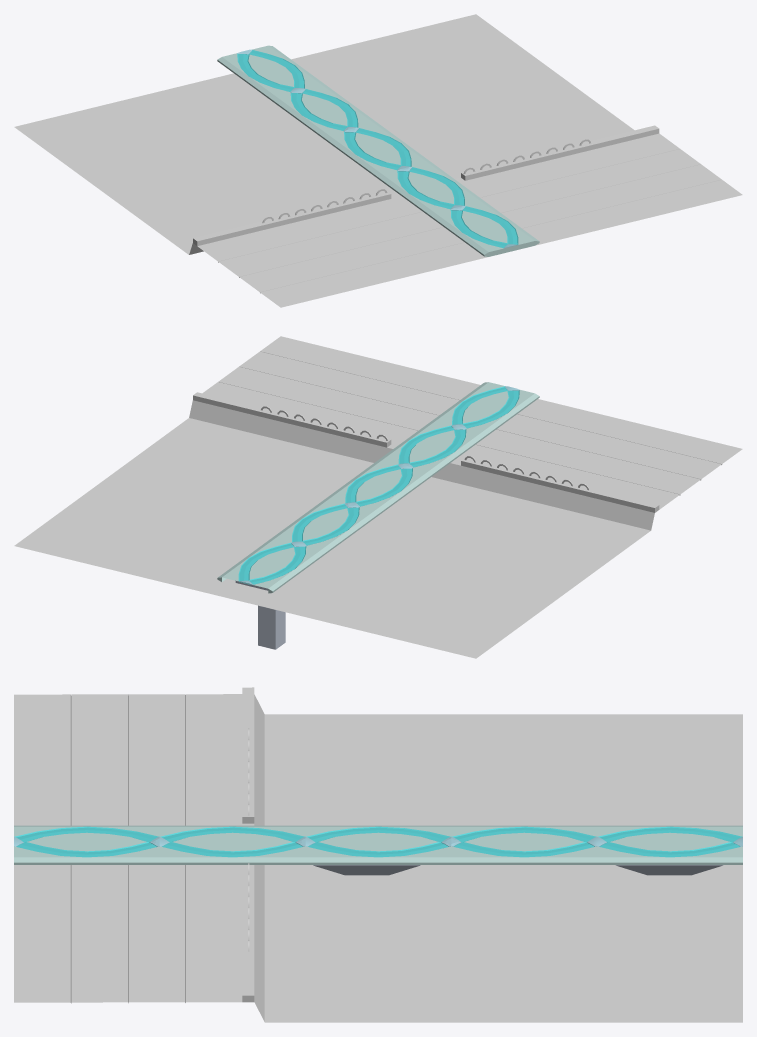
Rendered from Water plan map 2.fbx.
3 renders of one model, top to bottom at view 1: azimuth 30°, elevation 25°; view 2: azimuth 150°, elevation 25°; view 3: azimuth 270°, elevation 25°, orthographic. The views are drawn at different scales.
Visible parts, largest first — view 1: Plane001, Object030, Object006, Object029; view 2: Plane001, Object030, Object006, Object029; view 3: Plane001, Object030, Object006.
Boxes of the visible parts, x1,y1,x2,y2 form: Plane001: (14, 14, 634, 254); Object030: (189, 125, 742, 307); Object006: (217, 45, 539, 256); Object029: (262, 139, 590, 222); Plane001: (14, 418, 650, 658); Object030: (189, 336, 742, 530); Object006: (217, 382, 539, 649); Object029: (261, 406, 589, 490); Plane001: (264, 714, 742, 1022); Object030: (14, 687, 264, 1021); Object006: (14, 825, 742, 875).
Bounding box in the file's own units: 5000 × 890 × 5000.
